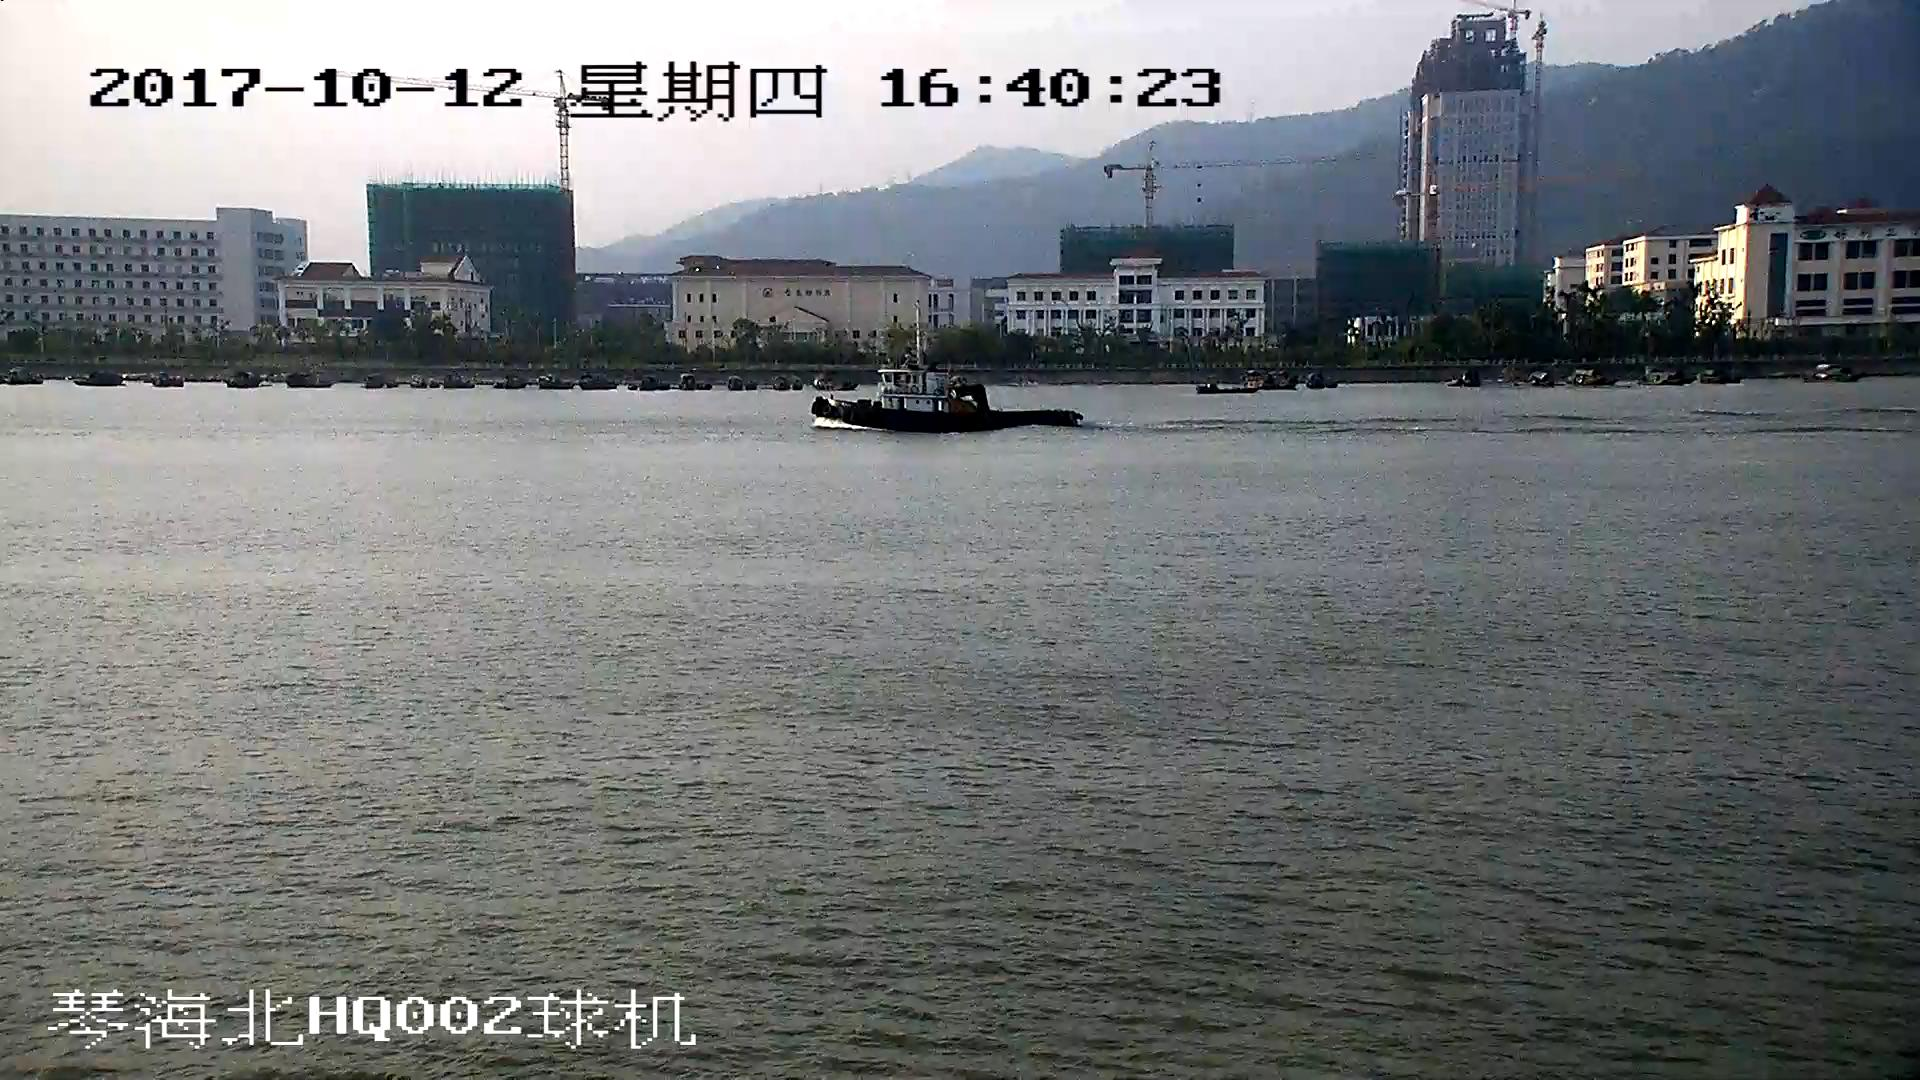passenger ship: (813, 297, 1082, 439)
